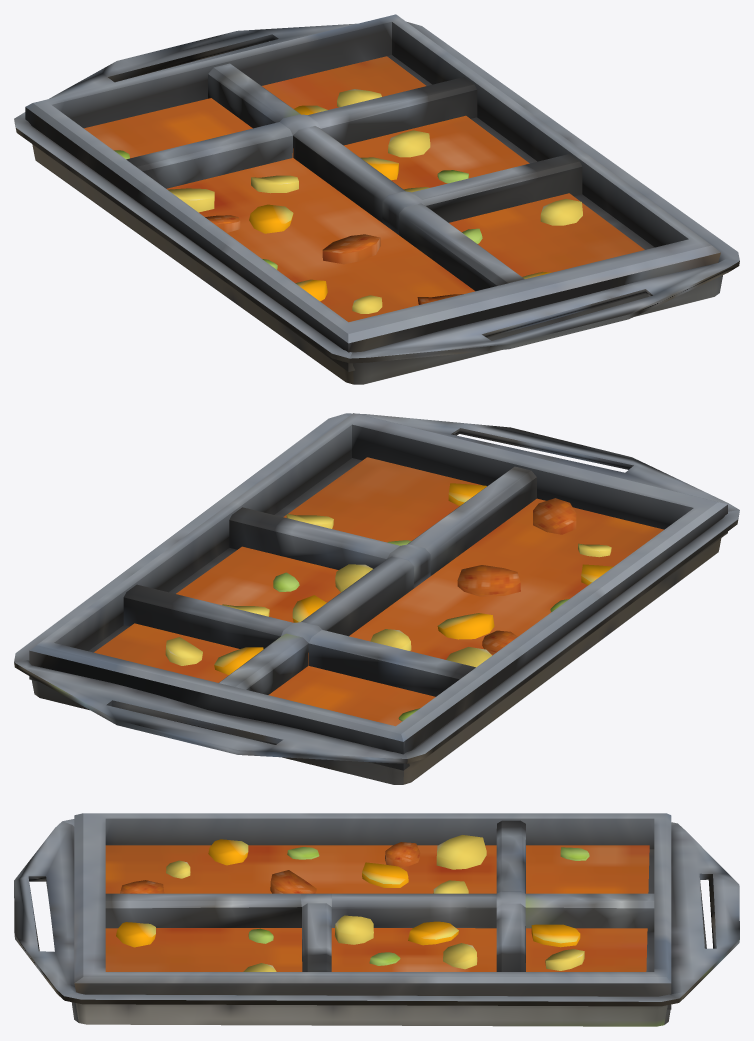
The model's file is MessTray_Liquid.fbx.
The picture shows the model from 3 angles, top to bottom: view 1: azimuth 30°, elevation 25°; view 2: azimuth 150°, elevation 25°; view 3: azimuth 270°, elevation 25°; orthographic projection. The views are drawn at different scales.
Visible parts, largest first — view 1: MessTray.001; view 2: MessTray.001; view 3: MessTray.001.
Part boxes in pixels (<box>): MessTray.001: <box>14,14,739,384</box>; MessTray.001: <box>14,413,739,784</box>; MessTray.001: <box>14,813,739,1026</box>.
Bounding box in the file's own units: 58.47 × 7.15 × 97.26.
